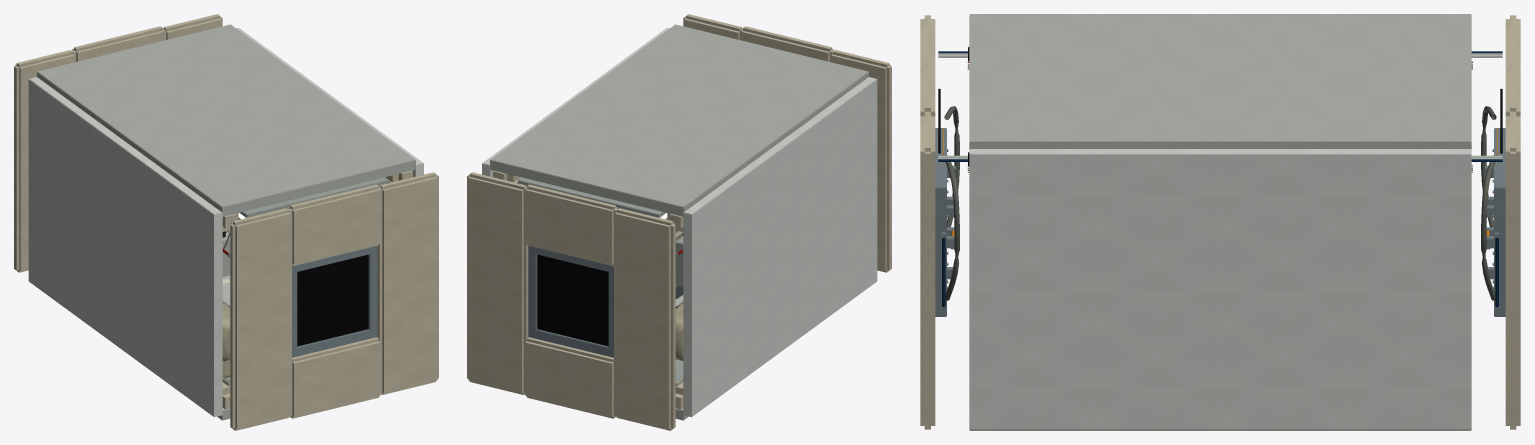
Rendered from quest.glb.
3 renders of one model, left to right at view 1: azimuth 30°, elevation 25°; view 2: azimuth 150°, elevation 25°; view 3: azimuth 270°, elevation 25°, orthographic. The views are drawn at different scales.
Parts seen in each view (by area): view 1: quest_detailed; view 2: quest_detailed; view 3: quest_detailed.
Part boxes in pixels (x1=…): quest_detailed: x1=14, y1=14, x2=438, y2=430; quest_detailed: x1=467, y1=14, x2=891, y2=430; quest_detailed: x1=920, y1=14, x2=1520, y2=430.
Size of the model in its own units: 3.09 by 3 by 5.64.
20 materials, 17 textured.
